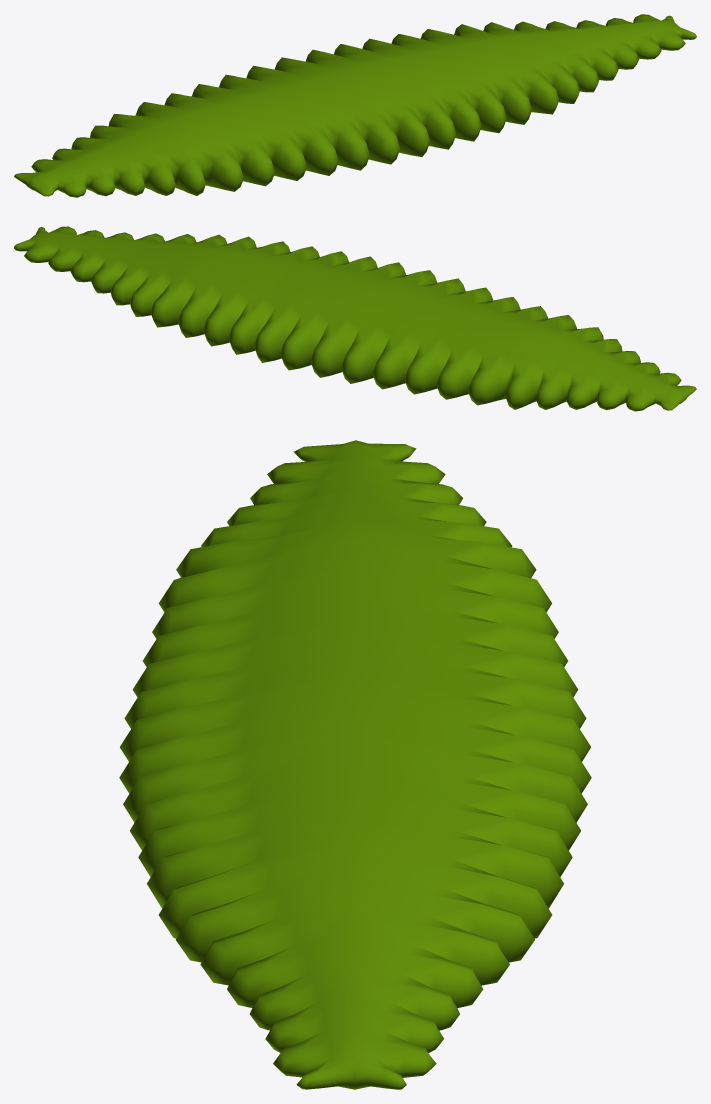
The model's file is monster4.fbx.
3 views of the same model, one above another, from view 1: azimuth 30°, elevation 25°; view 2: azimuth 150°, elevation 25°; view 3: azimuth 270°, elevation 25° (orthographic). The views are drawn at different scales.
Visible parts, largest first — view 1: monster4; view 2: monster4; view 3: monster4.
Part boxes in pixels (bbox=[...]): monster4: bbox=[14, 14, 696, 197]; monster4: bbox=[14, 226, 696, 411]; monster4: bbox=[119, 440, 591, 1089].
Bounding box in the file's own units: 201 × 21.9 × 62.61.
